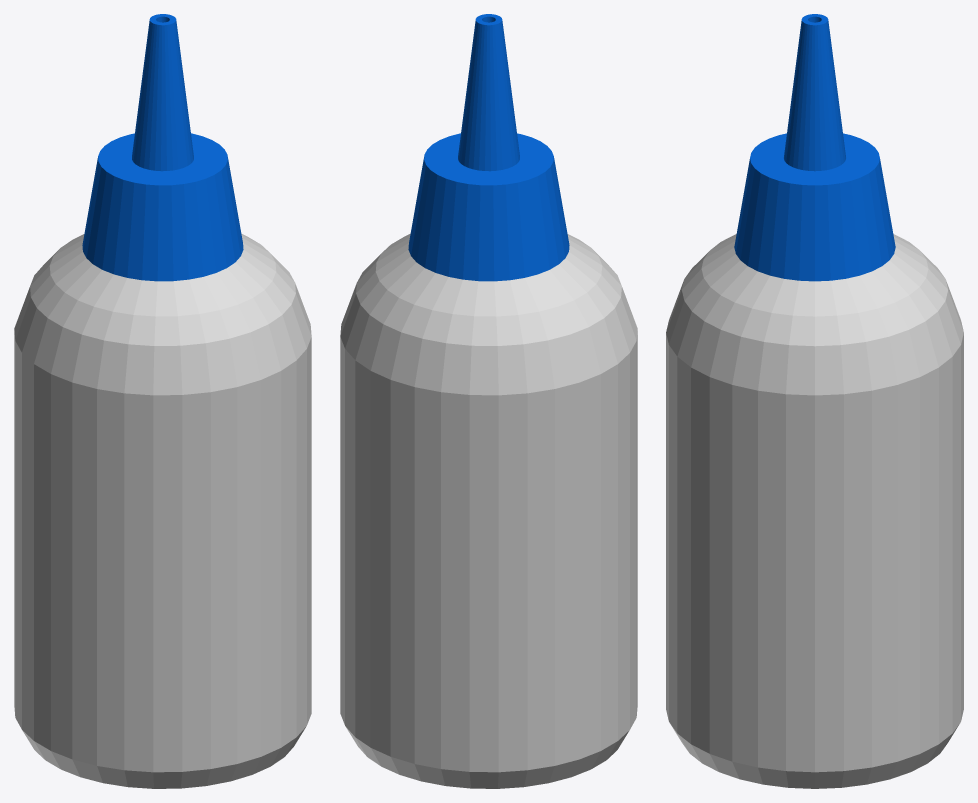
3 renders of one model, left to right at view 1: azimuth 30°, elevation 25°; view 2: azimuth 150°, elevation 25°; view 3: azimuth 270°, elevation 25°, orthographic.
Parts seen in each view (by area): view 1: Cylinder; view 2: Cylinder; view 3: Cylinder.
Part boxes in pixels (left/top/right/bottom): Cylinder: left=14, top=14, right=311, bottom=788; Cylinder: left=340, top=14, right=637, bottom=788; Cylinder: left=666, top=14, right=963, bottom=788.
Bounding box in the file's own units: 200 × 527 × 200.
